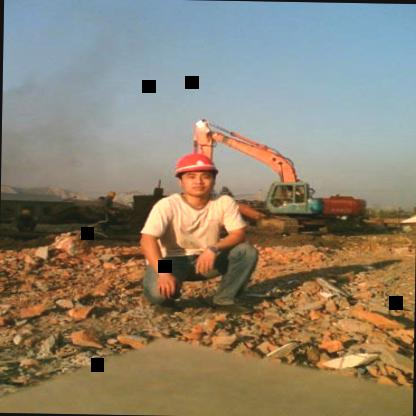helmet: (169, 147, 228, 205)
